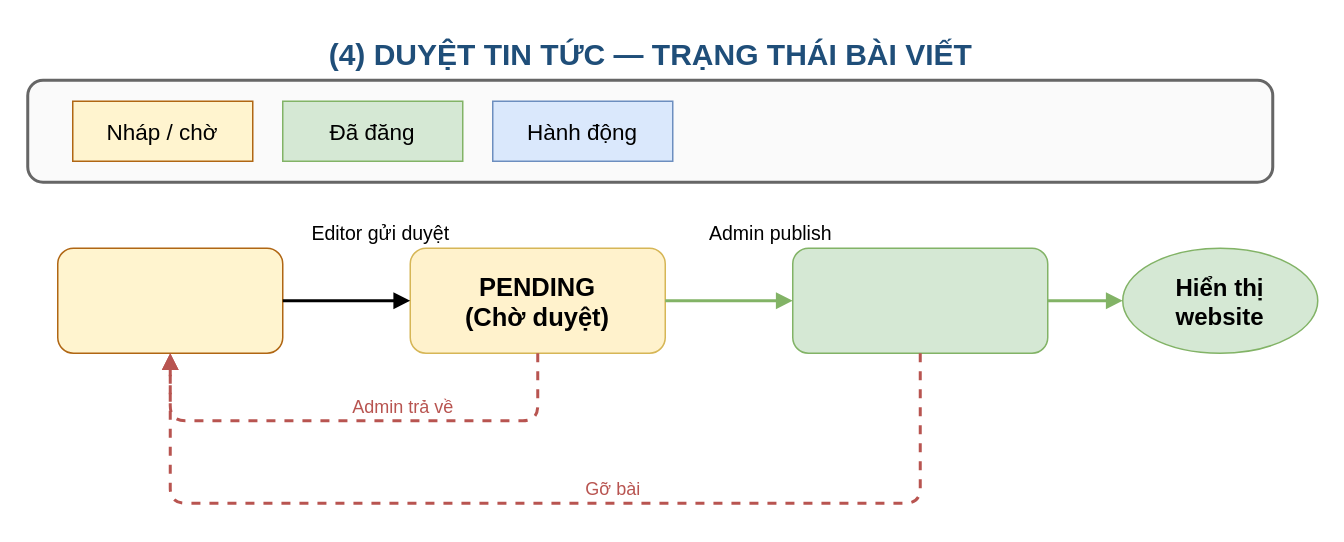
Some shapes in this 1344 by 542 pixel diagram are drawn without their labels. Each missing label, with the centre of its shape:
"DRAFT (Nháp)" goes at point 169,300.
"PUBLISHED (Đã đăng)" goes at point 919,300.
